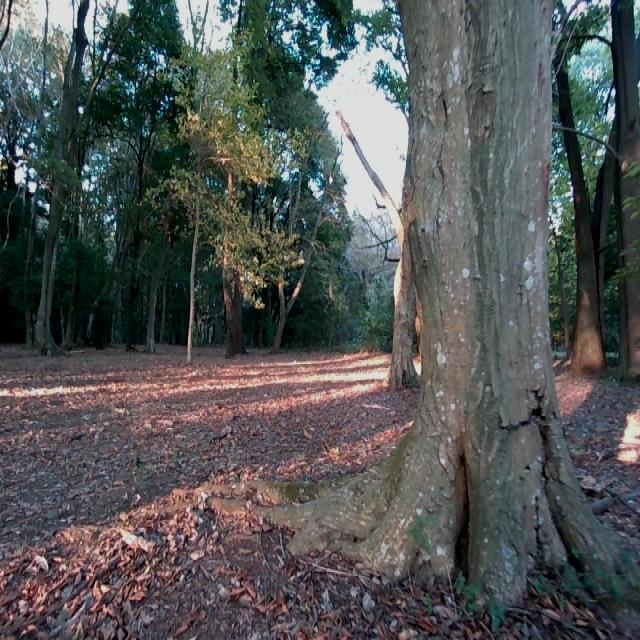tree: (385, 0, 626, 599), (572, 0, 640, 376), (382, 35, 422, 385), (39, 4, 67, 350), (221, 72, 244, 352), (272, 163, 293, 352)
